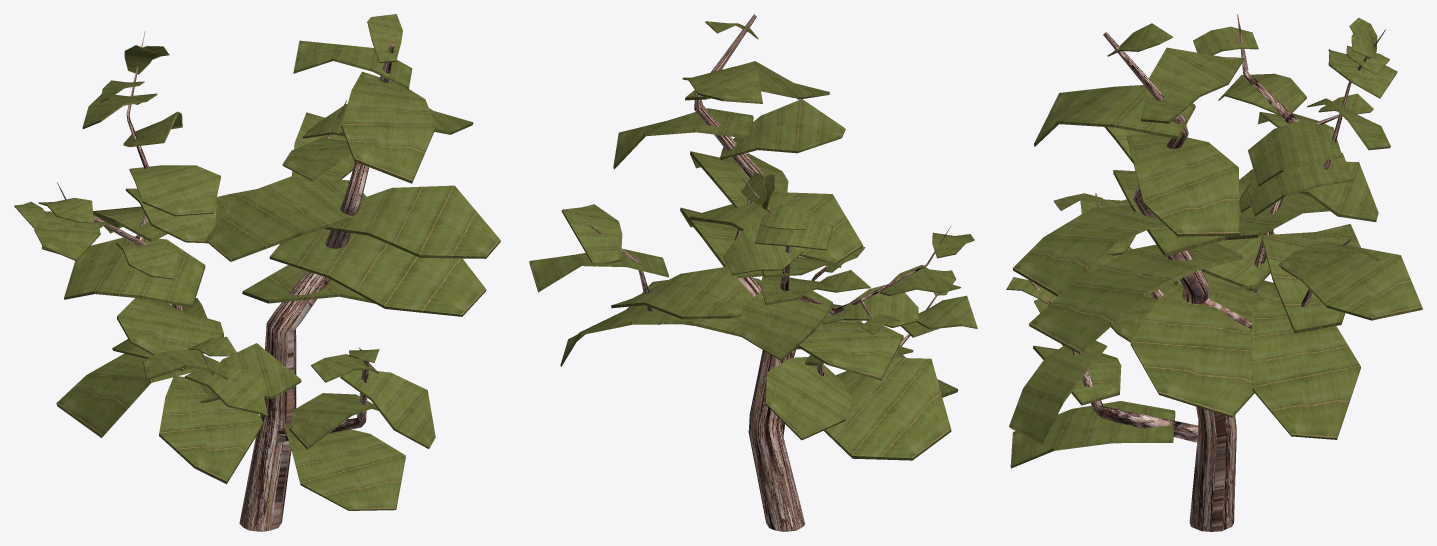
The model's file is 나무2_초록잎만.fbx.
3 renders of one model, left to right at view 1: azimuth 30°, elevation 25°; view 2: azimuth 150°, elevation 25°; view 3: azimuth 270°, elevation 25°, orthographic. The views are drawn at different scales.
Visible parts, largest first — view 1: Plane001, Plane006, Plane008, Plane007, Plane012, Plane015, Plane020, Plane028, Plane019, Plane027, Plane017, Plane036 (+22 smaller); view 2: Plane019, Plane001, Plane026, Plane004, Plane007, Plane034, Plane010, Plane028, Plane011, Plane005, Plane002, Plane037 (+16 smaller); view 3: Plane009, Plane001, Plane003, Plane011, Plane006, Plane008, Plane002, Plane015, Plane012, Plane013, Plane017, Plane004 (+19 smaller).
Boxes of the visible parts, <box> form: Plane001: <box>44,31,394,531</box>; Plane006: <box>269,229,486,316</box>; Plane008: <box>324,185,500,258</box>; Plane007: <box>205,176,366,261</box>; Plane012: <box>341,71,436,183</box>; Plane015: <box>284,426,405,510</box>; Plane020: <box>159,376,263,484</box>; Plane028: <box>64,236,205,307</box>; Plane019: <box>56,353,204,437</box>; Plane027: <box>117,298,223,371</box>; Plane017: <box>340,370,435,448</box>; Plane036: <box>129,165,220,216</box>; Plane019: <box>824,357,951,460</box>; Plane001: <box>585,14,950,531</box>; Plane026: <box>765,357,852,440</box>; Plane004: <box>611,266,753,319</box>; Plane007: <box>689,192,863,263</box>; Plane034: <box>739,290,832,360</box>; Plane010: <box>720,99,845,159</box>; Plane028: <box>798,321,903,380</box>; Plane011: <box>613,108,753,169</box>; Plane005: <box>561,204,622,266</box>; Plane002: <box>529,249,668,292</box>; Plane037: <box>723,218,802,275</box>; Plane009: <box>1130,279,1264,417</box>; Plane001: <box>1029,14,1385,531</box>; Plane003: <box>1251,300,1360,439</box>; Plane011: <box>1127,134,1239,236</box>; Plane006: <box>1029,242,1243,354</box>; Plane008: <box>1012,204,1164,296</box>; Plane002: <box>1281,247,1422,320</box>; Plane015: <box>1010,401,1175,468</box>; Plane012: <box>1034,85,1195,146</box>; Plane013: <box>1141,47,1244,123</box>; Plane017: <box>1009,340,1107,444</box>; Plane004: <box>1261,224,1360,333</box>.
Bounding box in the file's own units: 148 × 174 × 122.
2 materials, 2 textured.
